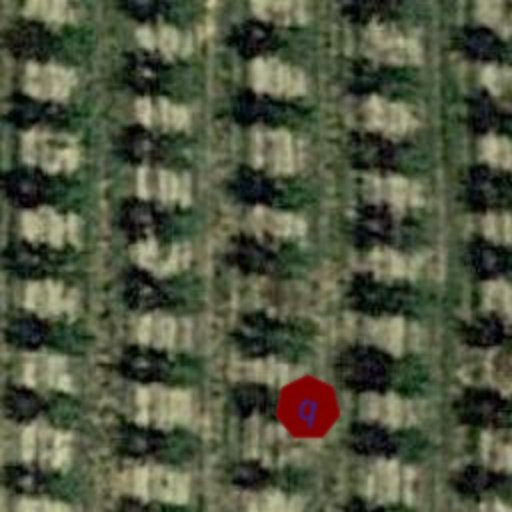heptagon: (266, 366, 350, 450)
